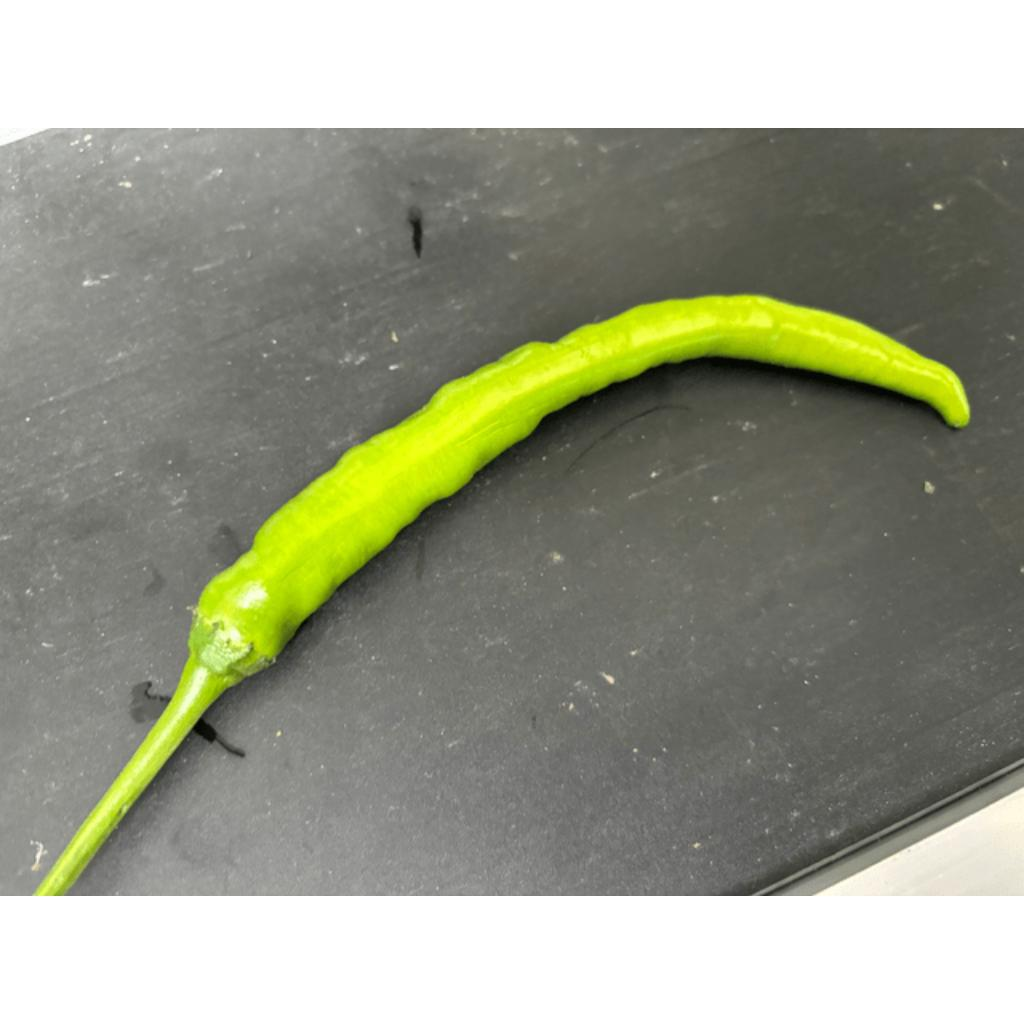chili: (181, 289, 976, 690)
